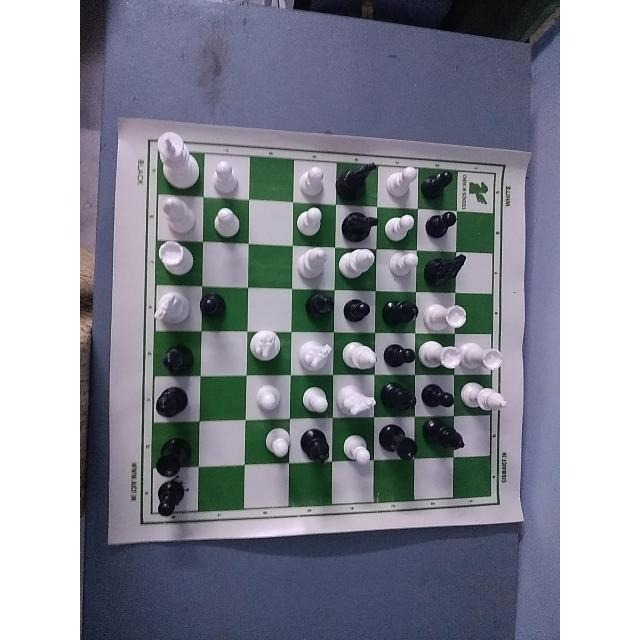black-bishop: (133, 379, 202, 421), (144, 334, 194, 378), (421, 412, 465, 460), (384, 288, 425, 332), (295, 423, 331, 470), (298, 289, 340, 327), (381, 377, 421, 414)
black-knight: (342, 155, 384, 203), (429, 254, 468, 290), (341, 209, 377, 243)
black-pawn: (144, 481, 194, 536), (196, 285, 230, 335), (427, 208, 469, 248), (384, 330, 419, 373), (343, 290, 383, 326), (424, 164, 466, 196), (419, 377, 454, 413)
black-rook: (150, 430, 194, 477), (383, 422, 415, 462)
white-bishop: (288, 245, 338, 291), (147, 196, 201, 236), (462, 379, 514, 412), (337, 335, 381, 371), (342, 246, 381, 285)
white-king: (147, 129, 203, 190)
white-knight: (147, 284, 195, 327), (245, 326, 287, 370), (294, 335, 337, 377), (337, 379, 380, 416), (338, 426, 375, 468)
white-pawn: (287, 204, 337, 243), (251, 422, 293, 462), (249, 377, 285, 421), (298, 162, 337, 201), (382, 209, 423, 245), (295, 379, 331, 419), (210, 202, 244, 243), (212, 154, 244, 197), (384, 248, 425, 280), (384, 163, 418, 199)
white-rook: (415, 333, 463, 370), (148, 241, 192, 280), (428, 294, 472, 330), (465, 334, 509, 370)
